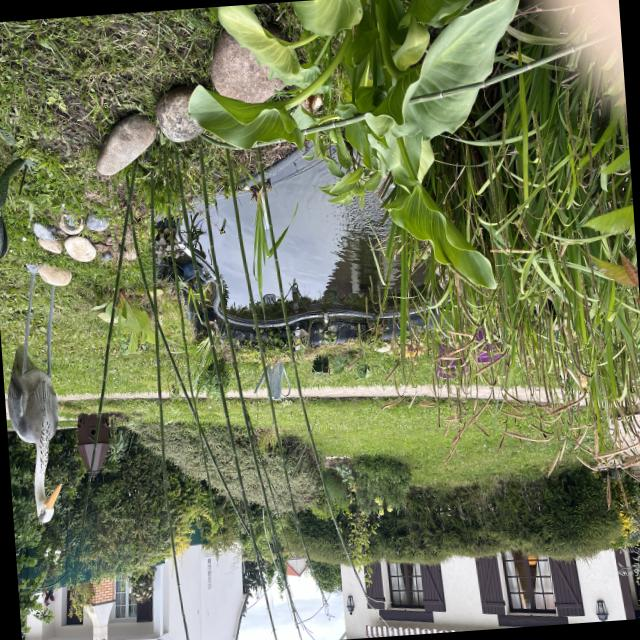Heron: (0, 243, 76, 532)
